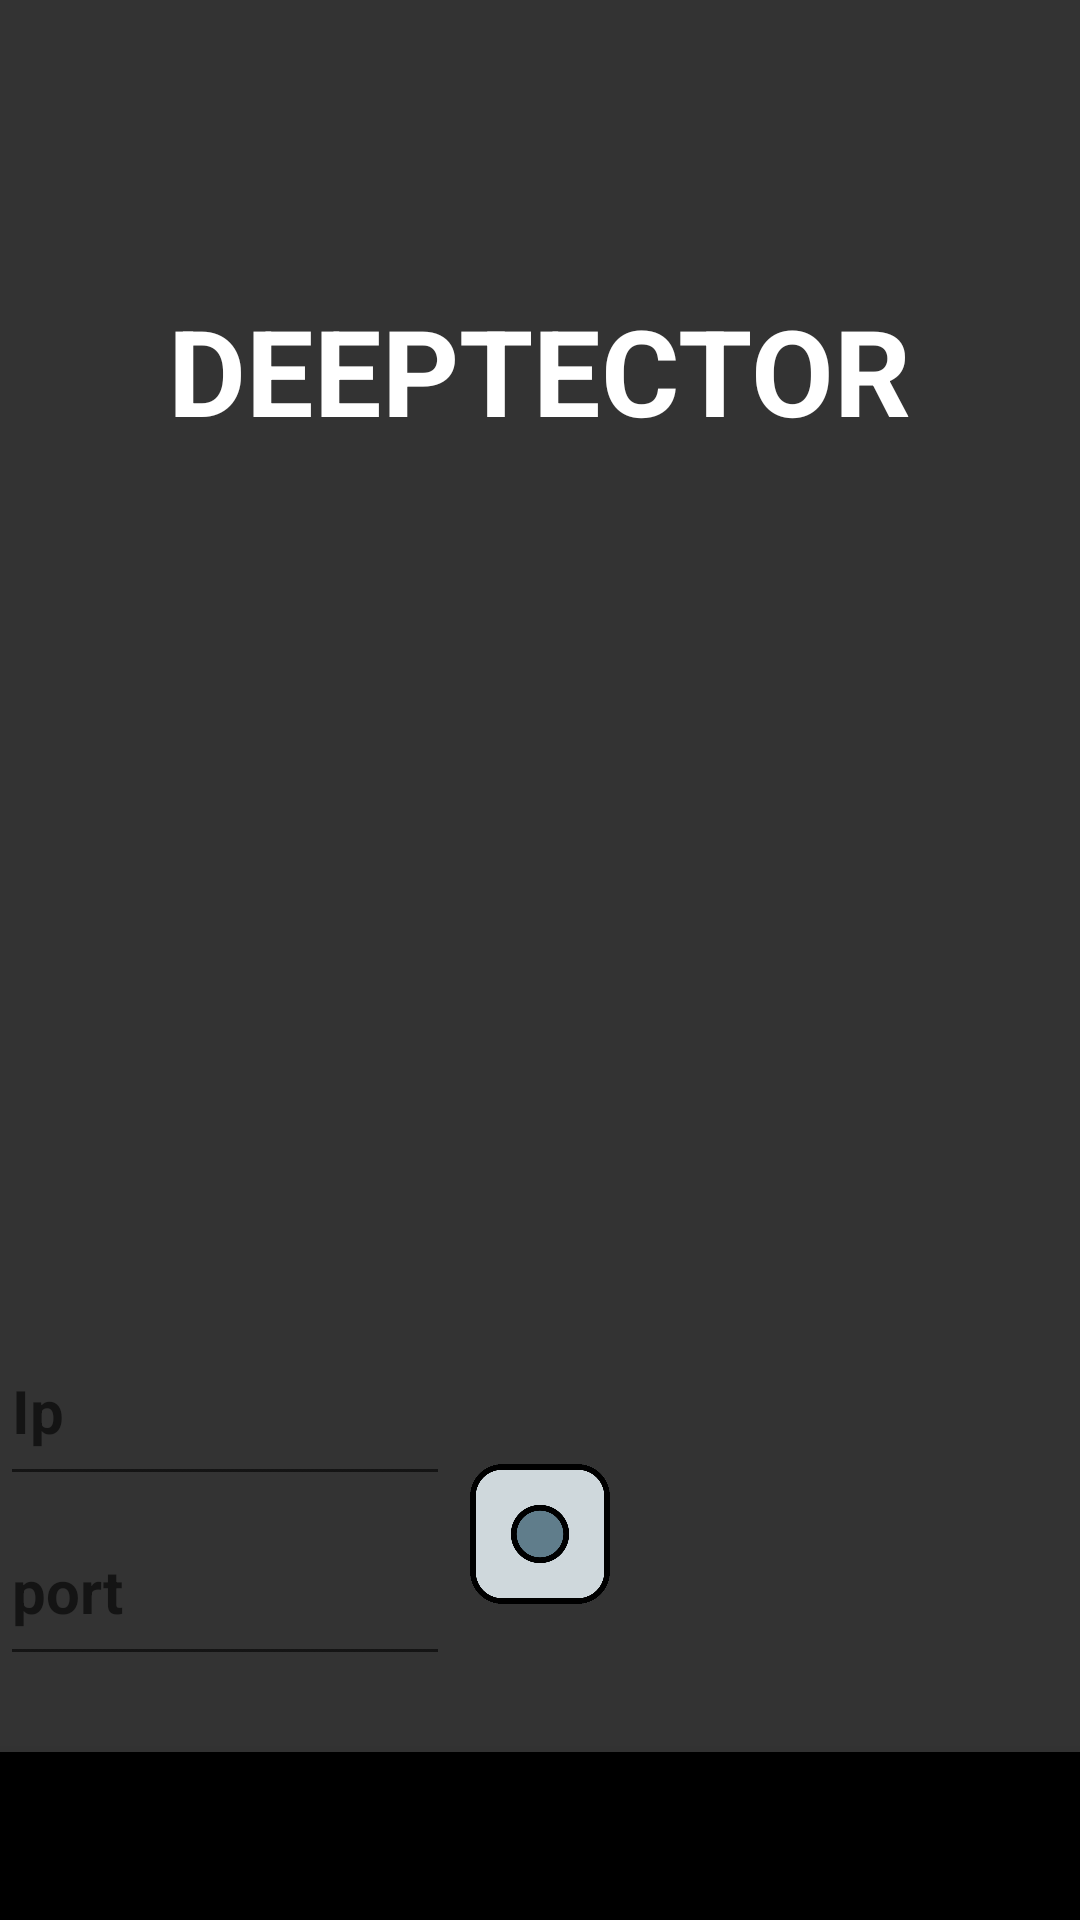

Icons on this 1080px×1920px Android screen, each with its box as (x1, y1, x2, y2):
rec: (470, 1464, 610, 1604)
